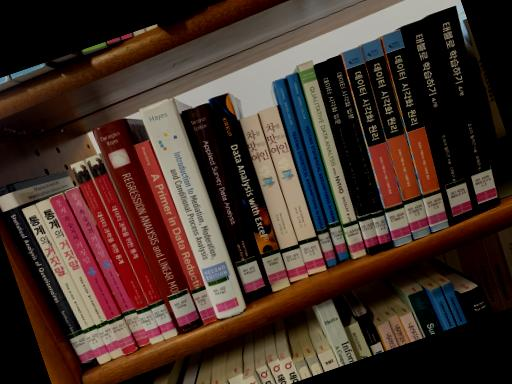book-spine: (92, 118, 202, 333), (139, 98, 244, 319), (0, 185, 99, 370), (182, 102, 269, 301), (85, 154, 178, 339), (70, 159, 163, 343), (209, 92, 290, 292), (134, 139, 217, 324), (401, 18, 474, 223), (428, 6, 500, 213), (21, 203, 112, 364), (35, 197, 123, 359), (49, 192, 137, 354), (342, 46, 412, 247), (360, 38, 430, 239), (381, 28, 449, 231), (297, 59, 366, 259), (64, 186, 150, 346), (327, 54, 393, 250), (315, 60, 380, 255), (273, 77, 338, 267), (285, 72, 349, 261), (238, 112, 308, 281), (257, 104, 326, 274)
